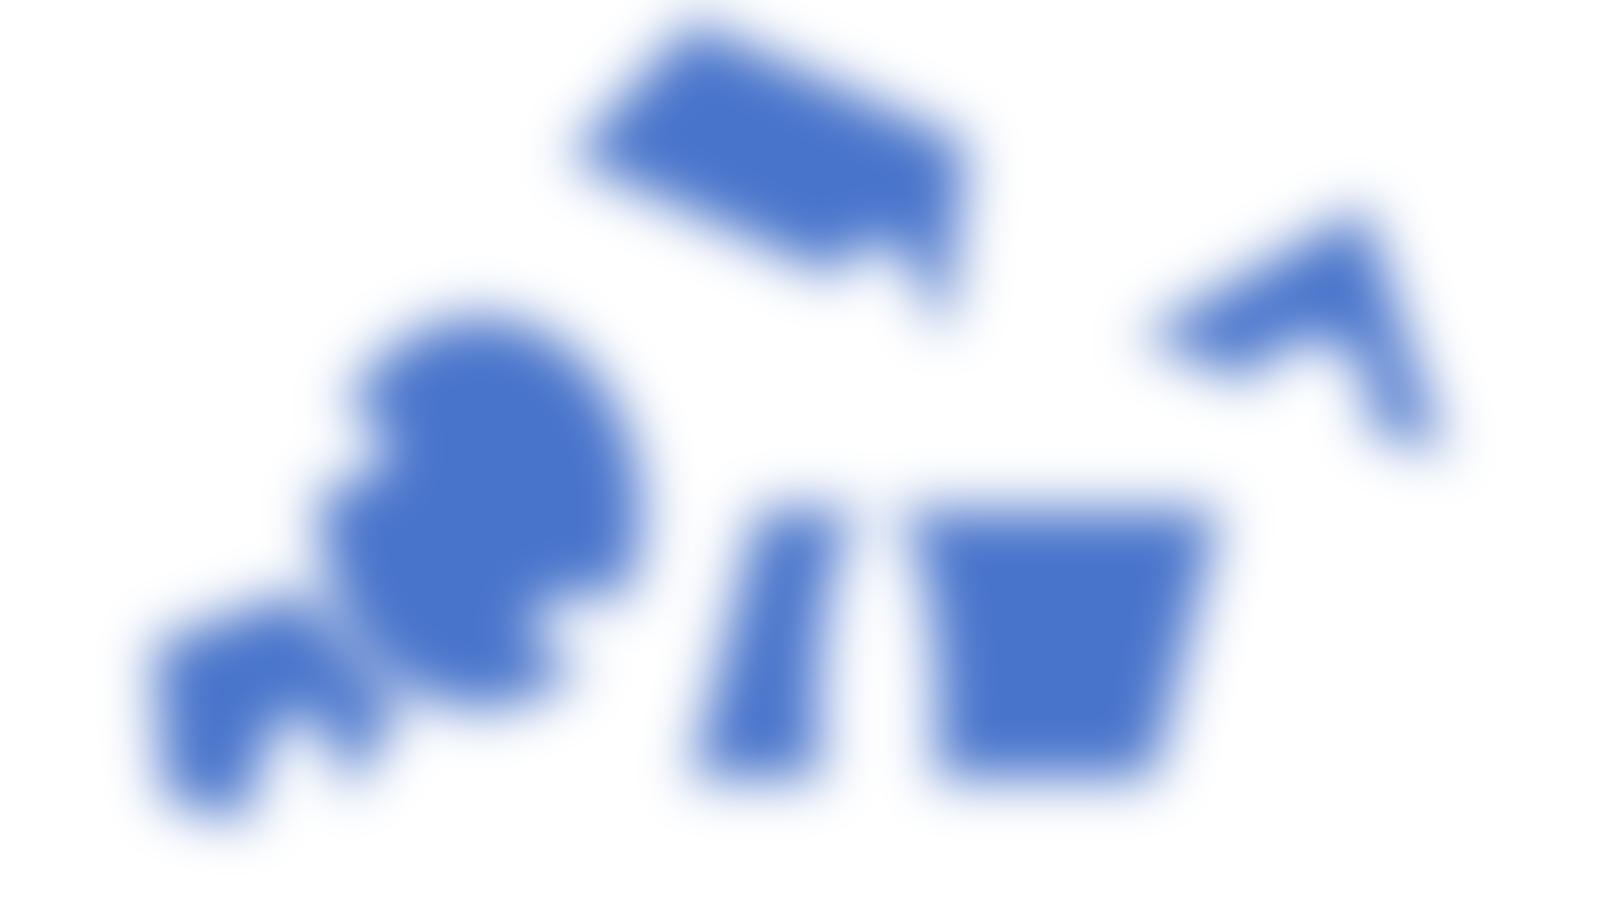circle: (298, 322, 665, 714)
parallelogram: (685, 469, 1221, 821)
pentagon: (136, 591, 392, 815)
trapezium: (576, 12, 993, 329)
triangle: (1143, 184, 1454, 482)
